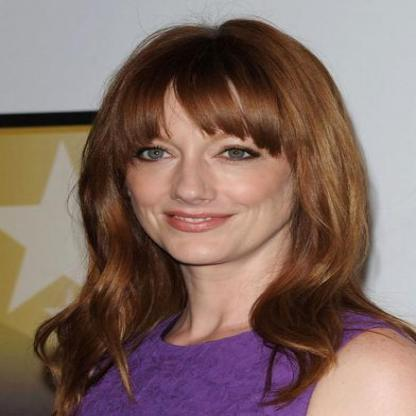long-hair: (73, 263, 374, 322)
